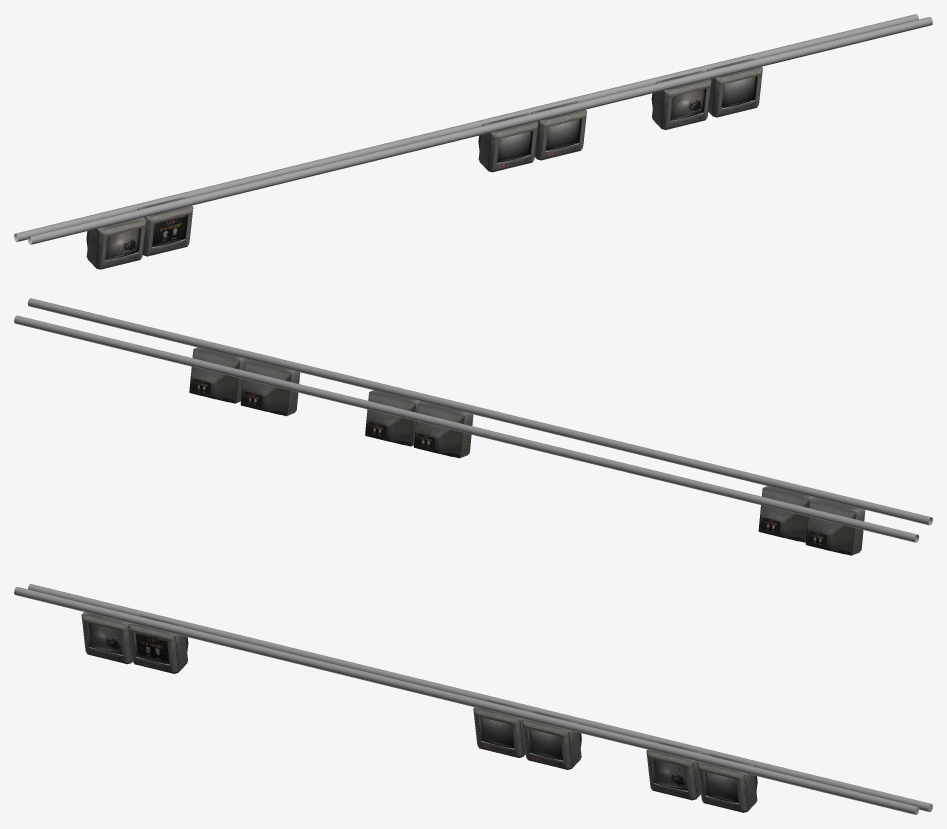
The model's file is ScoreTVs.fbx.
The picture shows the model from 3 angles, top to bottom: view 1: azimuth 30°, elevation 25°; view 2: azimuth 150°, elevation 25°; view 3: azimuth 330°, elevation 25°; orthographic projection.
Visible parts, largest first — view 1: Empty_Mesh; view 2: Empty_Mesh; view 3: Empty_Mesh.
Part boxes in pixels (left/top/right/bottom): Empty_Mesh: left=14, top=14, right=932, bottom=269; Empty_Mesh: left=14, top=298, right=932, bottom=555; Empty_Mesh: left=14, top=584, right=932, bottom=814.
Bounding box in the file's own units: 1667 × 89.43 × 83.47.
